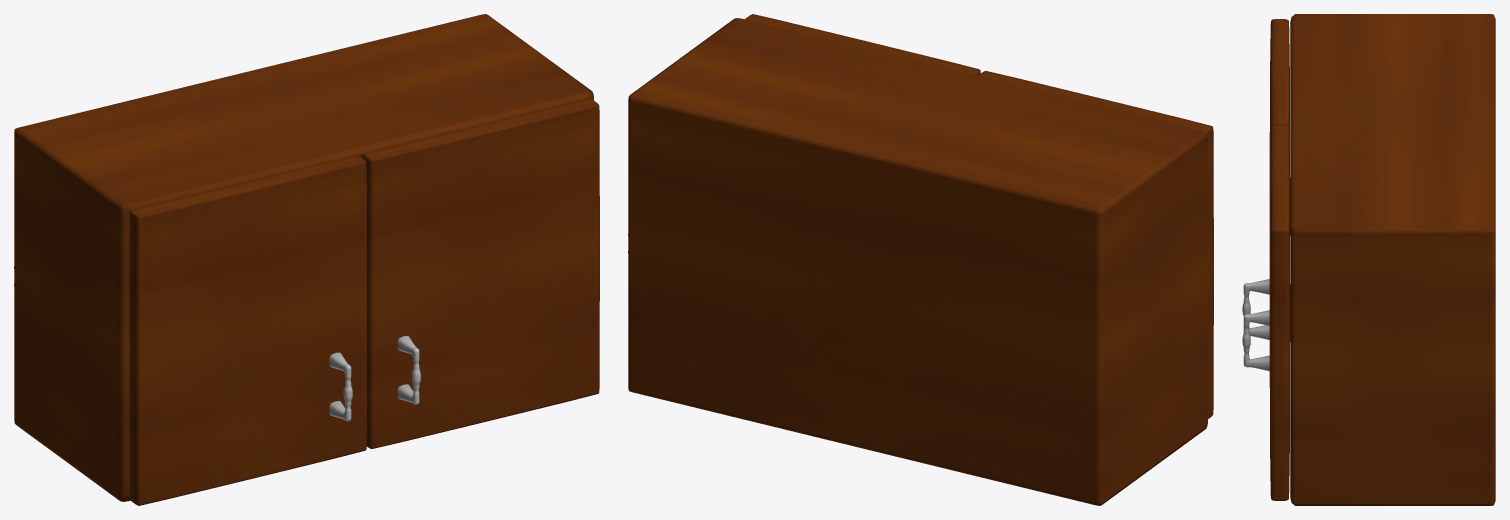
The model's file is alacena.obj.
The picture shows the model from 3 angles, left to right: view 1: azimuth 30°, elevation 25°; view 2: azimuth 150°, elevation 25°; view 3: azimuth 270°, elevation 25°; orthographic projection. The views are drawn at different scales.
Visible parts, largest first — view 1: Mesh; view 2: Mesh; view 3: Mesh.
Part boxes in pixels (<box>): Mesh: <box>14,14,599,505</box>; Mesh: <box>628,14,1213,505</box>; Mesh: <box>1242,14,1495,505</box>.
Size of the model in its own units: 1.4 by 0.8398 by 0.6901.
Materials: 1 (1 with a texture image).
